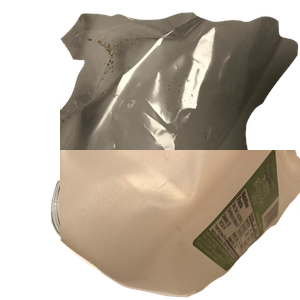glass: (48, 156, 260, 300)
metal: (78, 63, 266, 243)
plastic: (60, 150, 300, 300)
trash: (60, 10, 300, 190)
